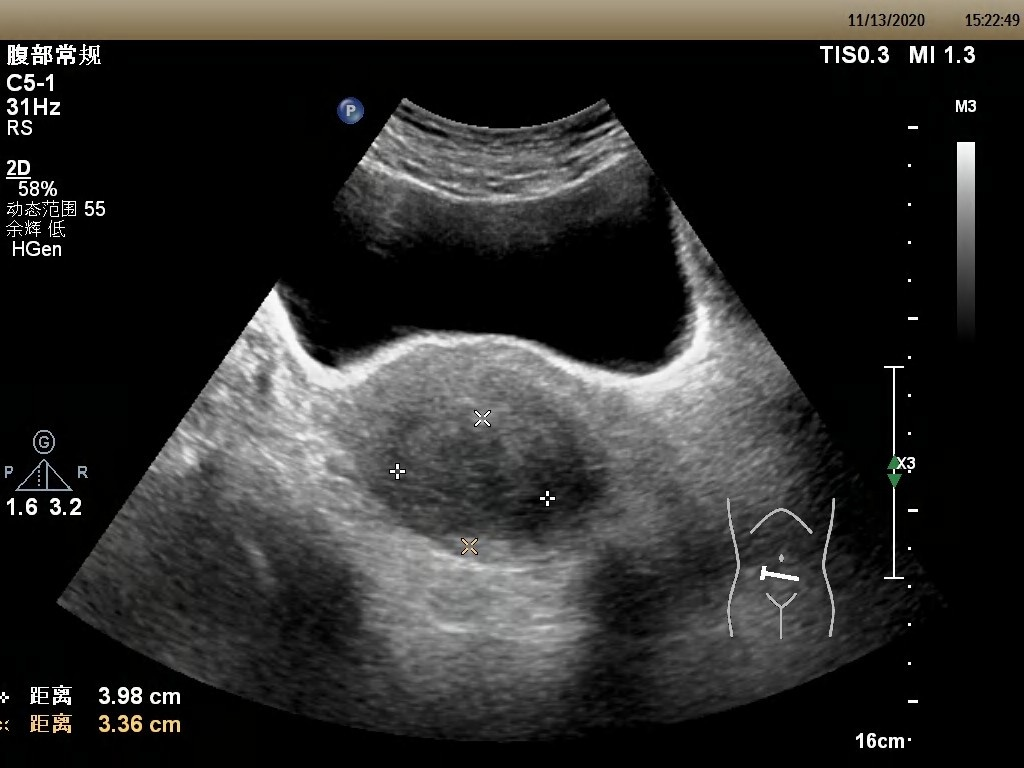肌瘤: (396, 406, 556, 544)
